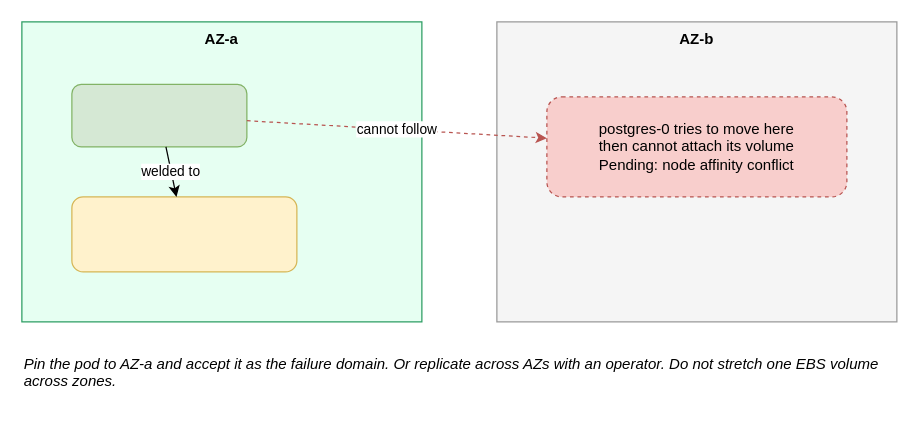
The diagram is 919 pixels wide and 431 high, and some of its shapes have lost their labels. Each missing label, with the centre of its shape:
EBS data-postgres-0 (lives in AZ-a): point 184,234
postgres-0: point 159,115
